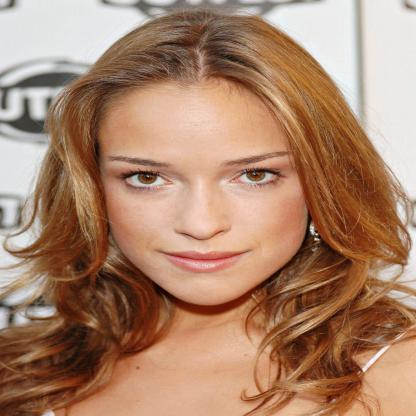long-hair: (8, 319, 403, 368)
